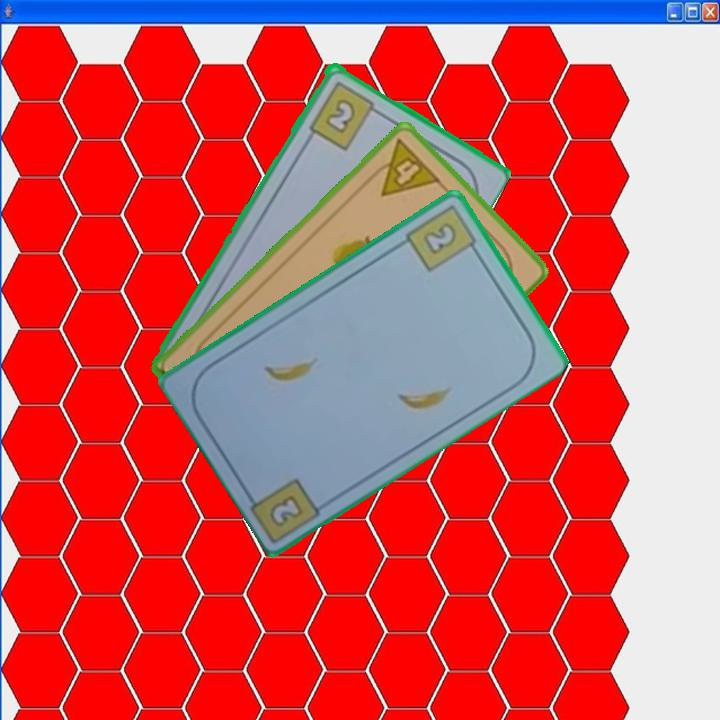2b: (305, 77, 385, 153), (401, 201, 483, 275), (265, 491, 307, 530)
4p: (363, 134, 444, 199)
